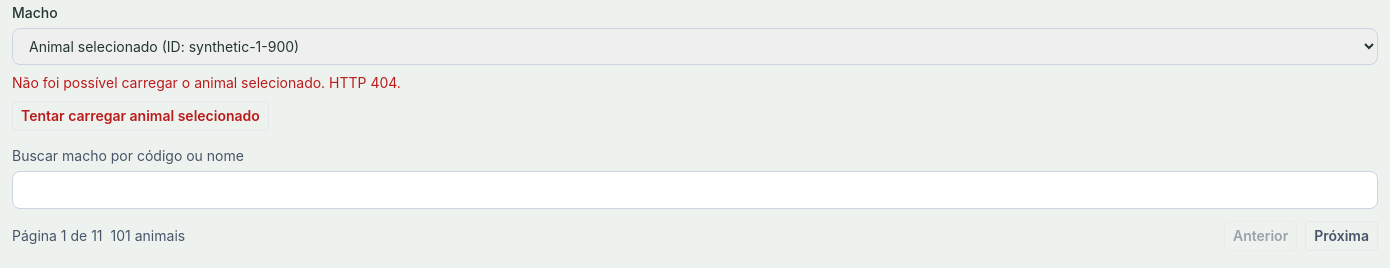
Test: BreedingAnimalSelector › keeps a reference ID after detail failure and retries visibly without changing the link
The image size is (1390, 268).
Check: the message shows "Não foi possível carregar o animal selecionado. HTTP 404.", box [12,74,401,91]
Click the button with aria-label "Tentar carregar animal selecionado: Macho". click: (140, 116)
box: [12,101,269,131]
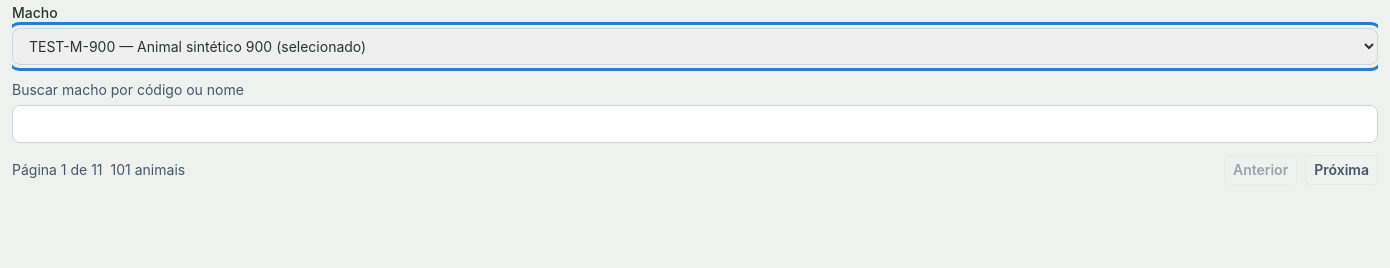
Check: the message is gone
